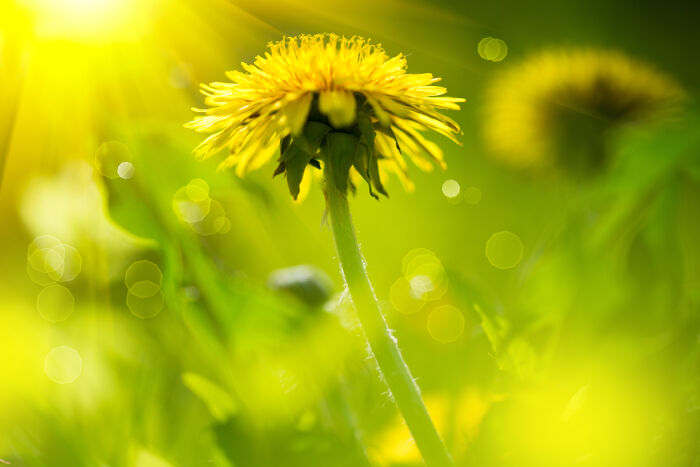dandelion: (211, 49, 453, 186)
